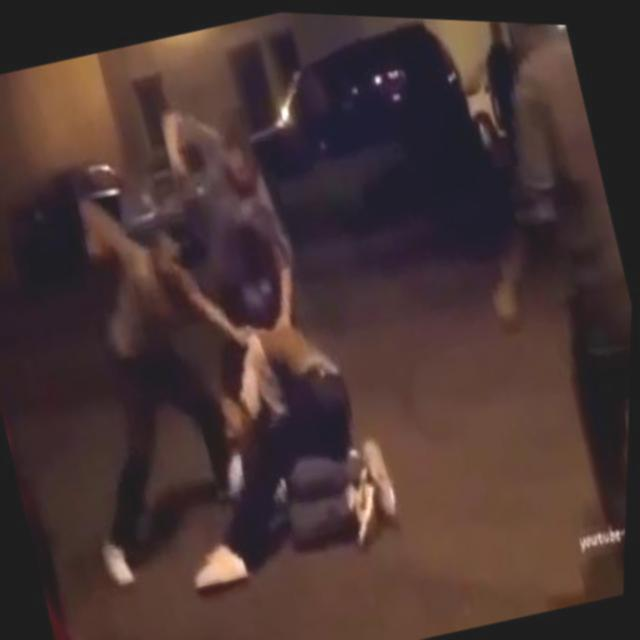fight: (16, 148, 358, 618), (140, 77, 370, 485), (150, 286, 426, 596)
